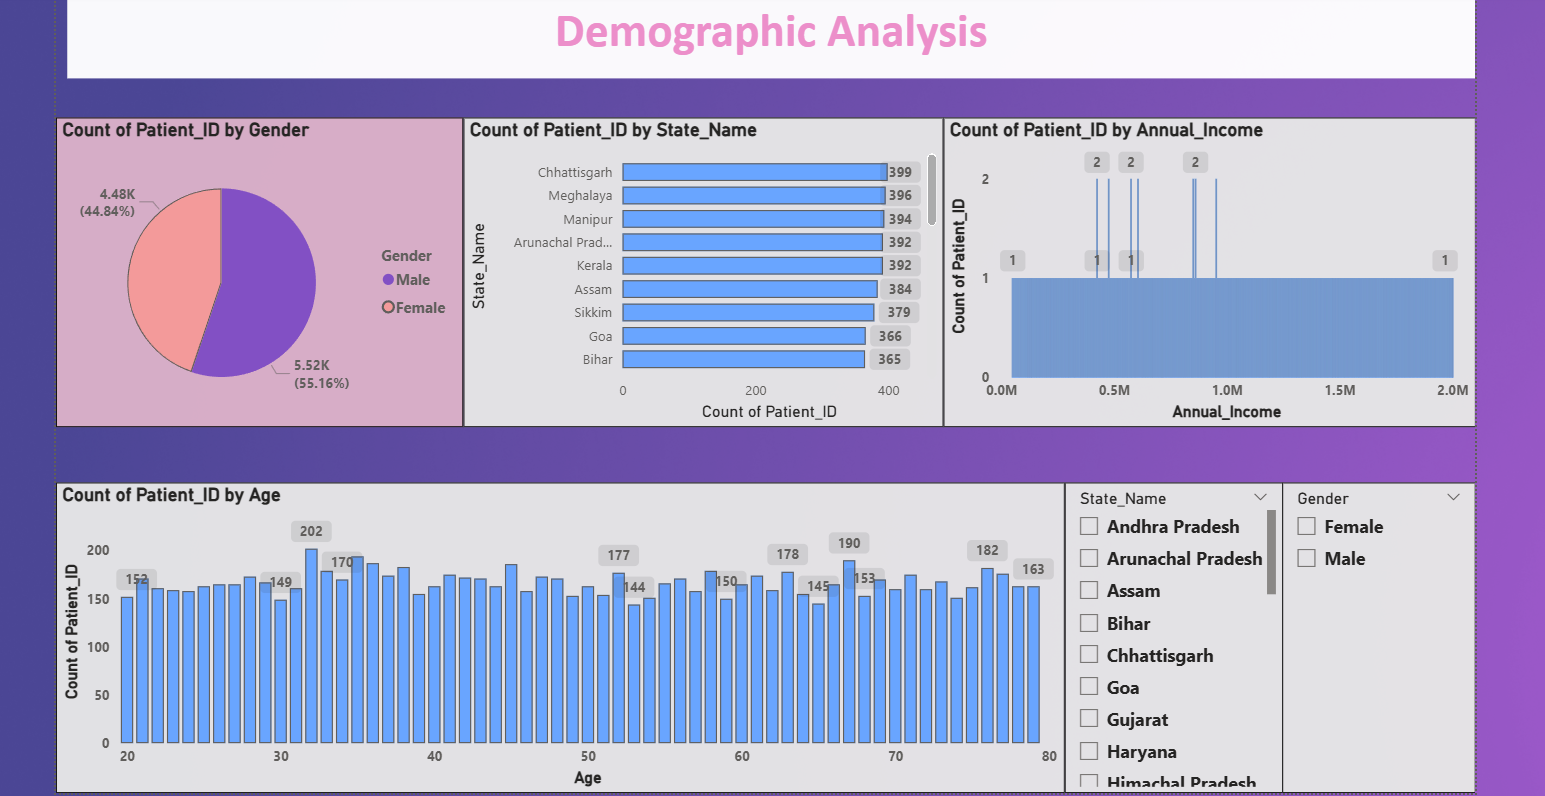

The page's visual inventory and layout, read from the dashboard file:
{"tool":"powerbi","page":{"name":"Page 2","canvas":[1280,720],"ordinal":1},"visuals":[{"type":"clusteredColumnChart","fields":{"Category":["heart_attack_final.Age"],"Y":["CountNonNull(heart_attack_final.Patient_ID)"]},"box":[0,439.5,909.3,280.2],"z":0},{"type":"pieChart","fields":{"Category":["heart_attack_final.Gender"],"Y":["CountNonNull(heart_attack_final.Patient_ID)"]},"box":[0,110.5,367.4,279.5],"z":1000},{"type":"clusteredBarChart","fields":{"Category":["heart_attack_final.State_Name"],"Y":["CountNonNull(heart_attack_final.Patient_ID)"]},"box":[367.4,110.5,432.8,279.5],"z":2000},{"type":"clusteredColumnChart","fields":{"Category":["heart_attack_final.Annual_Income"],"Y":["CountNonNull(heart_attack_final.Patient_ID)"]},"box":[800.3,110.5,480.2,279.5],"z":3000},{"type":"textbox","box":[10.5,0,1269.8,75.6],"z":4000},{"type":"slicer","fields":{"Values":["heart_attack_final.State_Name"]},"box":[909.3,439.5,196.5,280.2],"z":4001},{"type":"slicer","fields":{"Values":["heart_attack_final.Gender"]},"box":[1105.8,439.5,174.4,280.2],"z":4002}]}

Visuals, with their boxes in screenshot pixels (x1, y1, x2, y2):
clusteredColumnChart - heart_attack_final.Age x CountNonNull(heart_attack_final.Patient_ID): box(68, 476, 1061, 781)
pieChart - heart_attack_final.Gender x CountNonNull(heart_attack_final.Patient_ID): box(68, 117, 469, 422)
clusteredBarChart - heart_attack_final.State_Name x CountNonNull(heart_attack_final.Patient_ID): box(469, 117, 942, 422)
clusteredColumnChart - heart_attack_final.Annual_Income x CountNonNull(heart_attack_final.Patient_ID): box(942, 117, 1466, 422)
textbox: box(80, 0, 1465, 78)
slicer - heart_attack_final.State_Name: box(1061, 476, 1275, 781)
slicer - heart_attack_final.Gender: box(1275, 476, 1465, 781)
